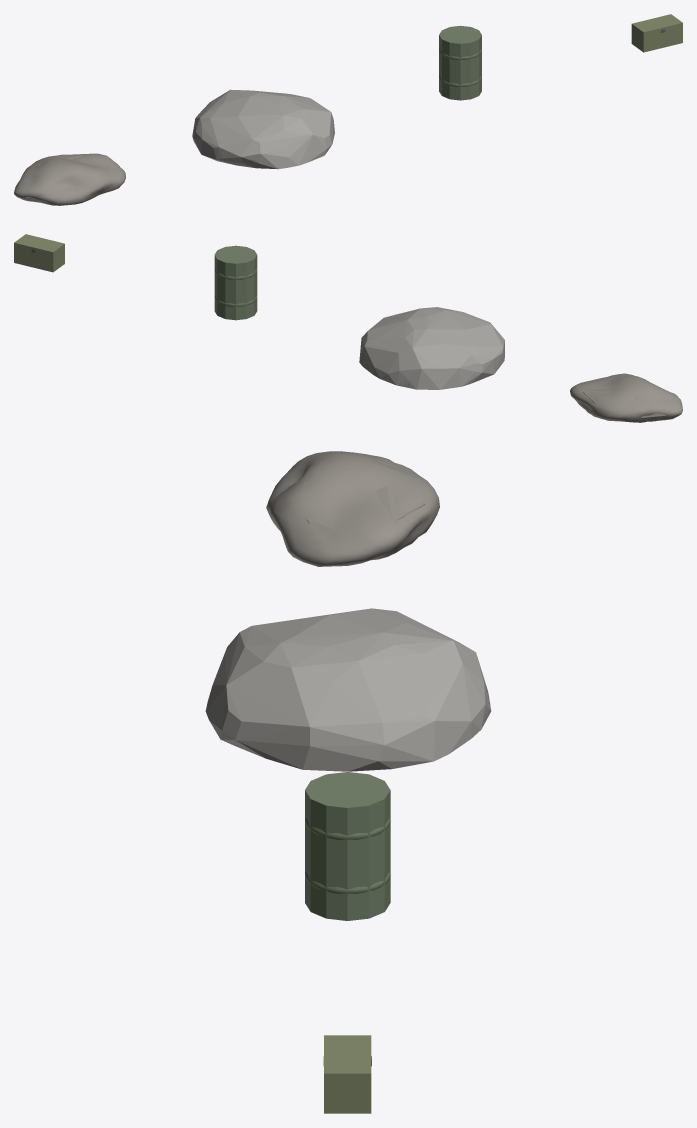
Rendered from props_2.glb.
The picture shows the model from 3 angles, top to bottom: view 1: azimuth 30°, elevation 25°; view 2: azimuth 150°, elevation 25°; view 3: azimuth 270°, elevation 25°; orthographic projection. The views are drawn at different scales.
Visible parts, largest first — view 1: COL_rubble_pile_a, rock_slab, COL_barrel_oil, COL_crate_ammo; view 2: COL_rubble_pile_a, rock_slab, COL_barrel_oil, COL_crate_ammo, COL_rock_slab, barrel_oil; view 3: COL_rubble_pile_a, rock_slab, COL_barrel_oil, COL_crate_ammo, barrel_oil.
Boxes of the visible parts, x1=… form: COL_rubble_pile_a: x1=192, y1=89, x2=334, y2=169; rock_slab: x1=14, y1=153, x2=125, y2=205; COL_barrel_oil: x1=439, y1=25, x2=481, y2=100; COL_crate_ammo: x1=631, y1=14, x2=682, y2=52; COL_rubble_pile_a: x1=359, y1=307, x2=504, y2=389; rock_slab: x1=570, y1=373, x2=682, y2=422; COL_barrel_oil: x1=214, y1=245, x2=257, y2=320; COL_crate_ammo: x1=14, y1=234, x2=64, y2=272; COL_rock_slab: x1=582, y1=375, x2=665, y2=420; barrel_oil: x1=214, y1=269, x2=257, y2=306; COL_rubble_pile_a: x1=205, y1=608, x2=491, y2=771; rock_slab: x1=266, y1=451, x2=439, y2=566; COL_barrel_oil: x1=305, y1=772, x2=390, y2=920; COL_crate_ammo: x1=324, y1=1035, x2=371, y2=1113; barrel_oil: x1=305, y1=818, x2=390, y2=893.
Size of the model in its own units: 10.78 by 0.88 by 2.02.
